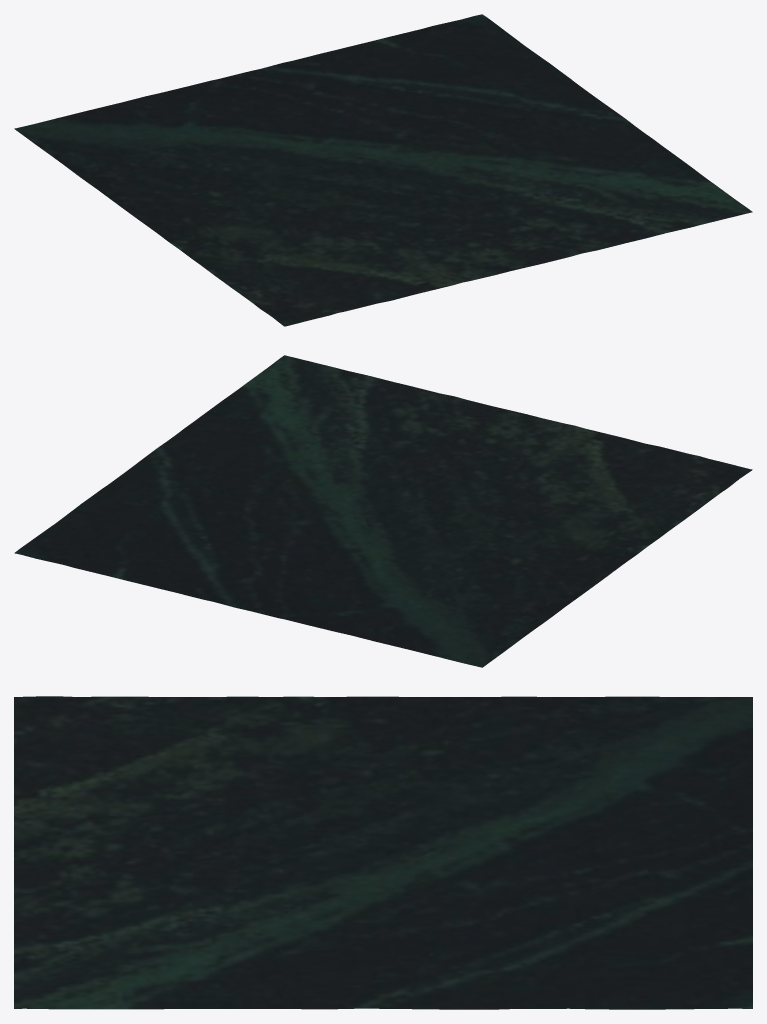
The picture shows the model from 3 angles, top to bottom: view 1: azimuth 30°, elevation 25°; view 2: azimuth 150°, elevation 25°; view 3: azimuth 270°, elevation 25°; orthographic projection. The views are drawn at different scales.
Bounding box in the file's own units: 104 × 0.2937 × 104.
Materials: 2 (2 with a texture image).
